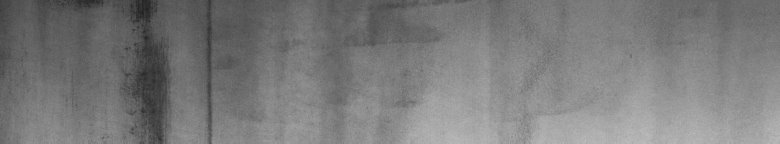ka: (57, 4, 221, 136)
